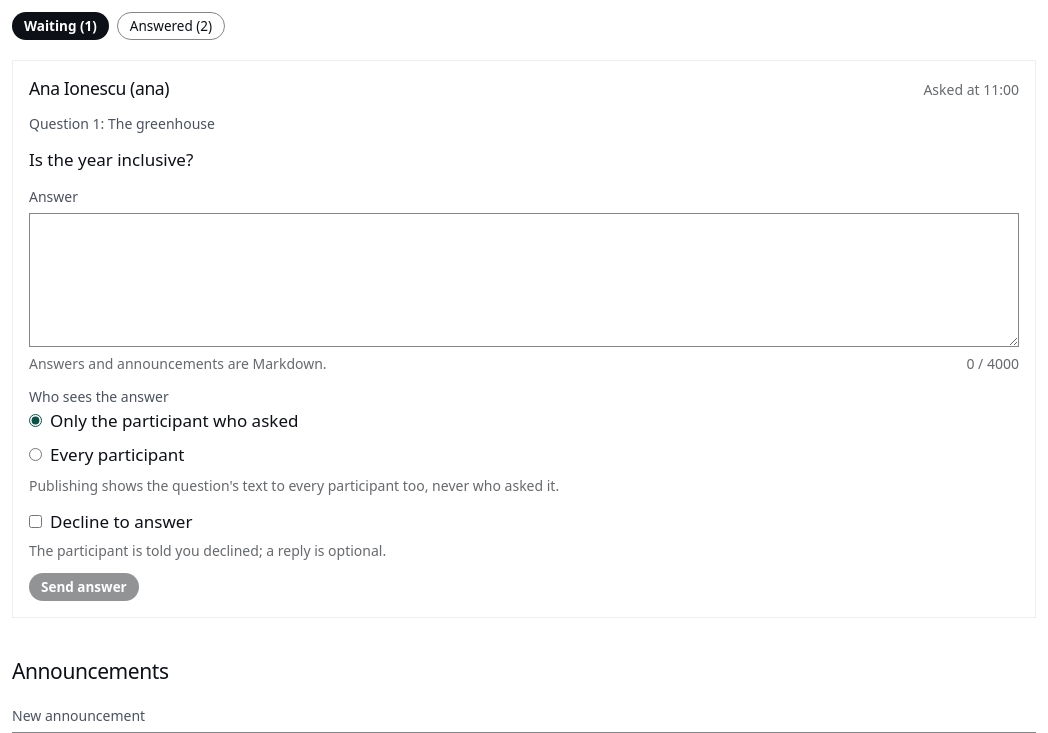
it: the staff desk › answers privately by default, and publicly when chosen, warning that the question goes public too
Check: the radio button labelled "Only the participant who asked" is checked, box [29,414,42,427]
Check: the text "Publishing shows the question's text to every participant too, never who asked it." is shown, box [29,476,559,495]
Type "Yes, inclusive." into the text box labelled "Answer" at [524, 280], box [29,213,1019,347]
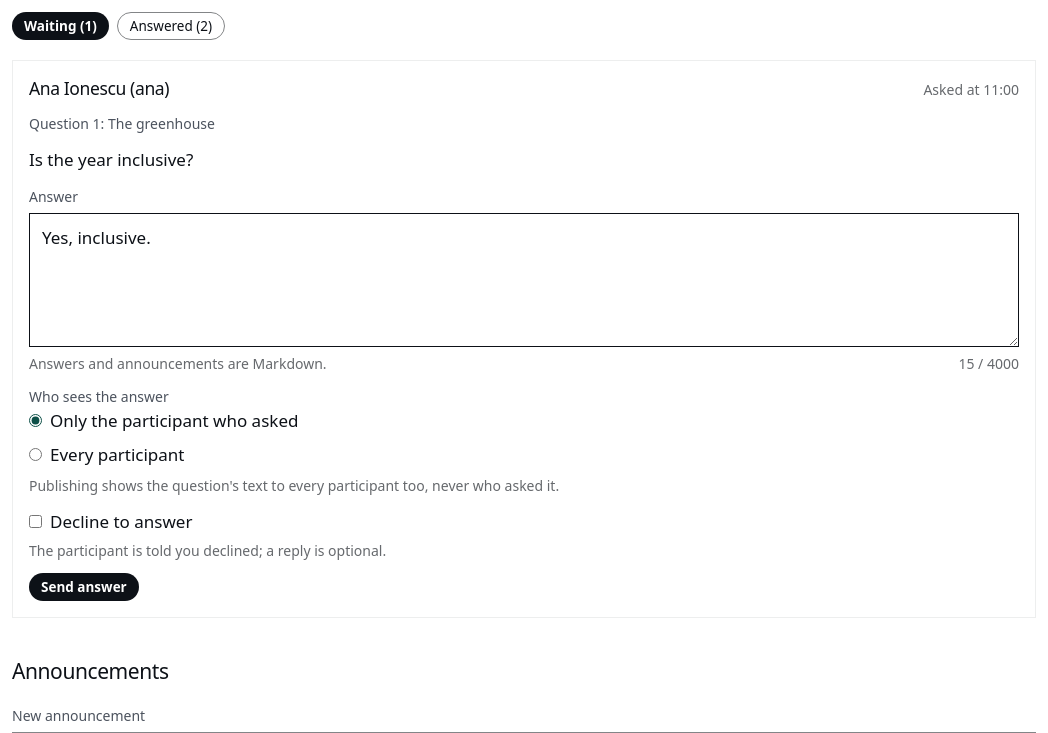
Click the radio button labelled "Every participant" at [36, 455], box [29,448,42,461]
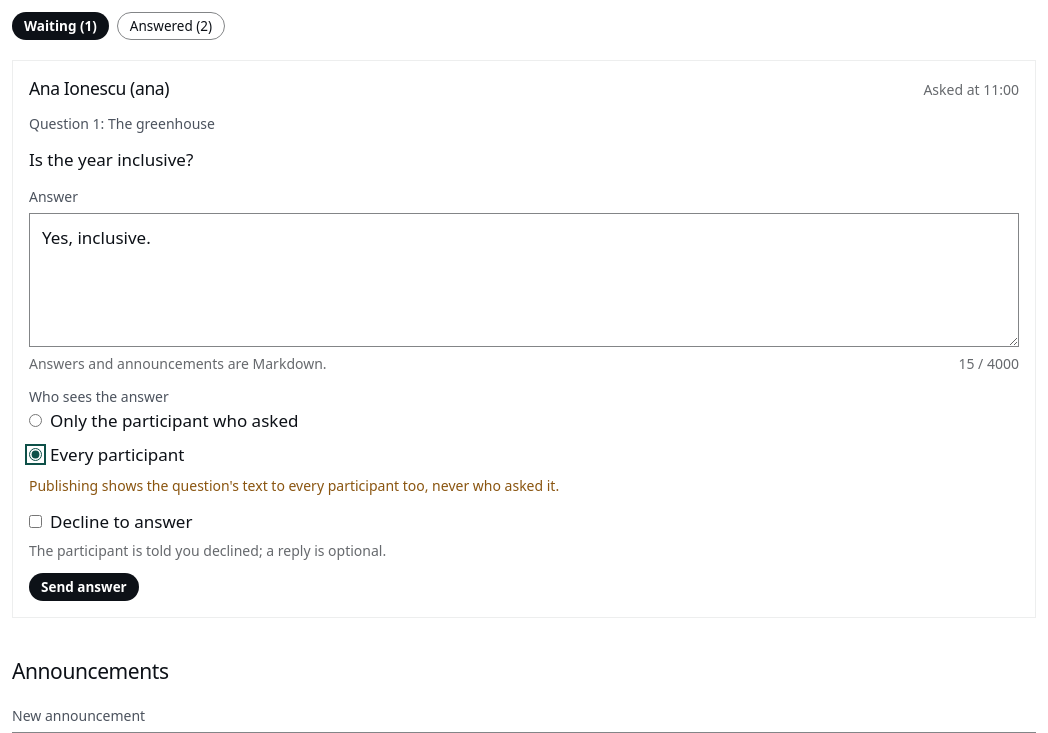
Click the button "Send answer" at [84, 587], box [29,573,139,601]
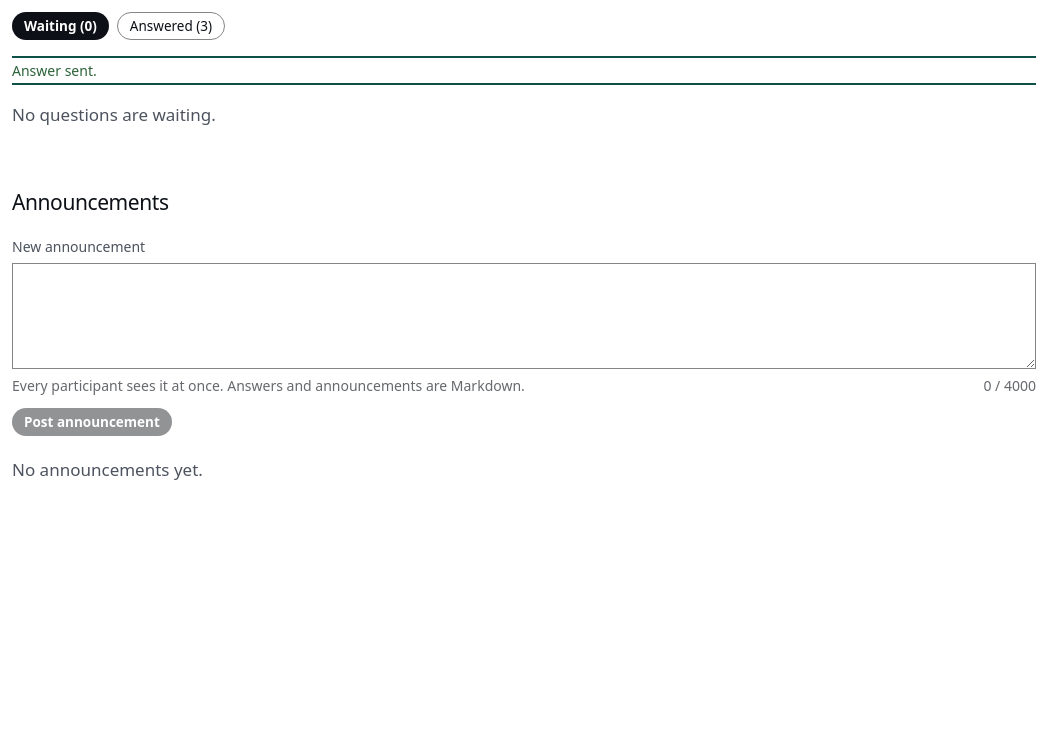
Check: the text "Answer sent." is shown, box [12,61,97,80]
